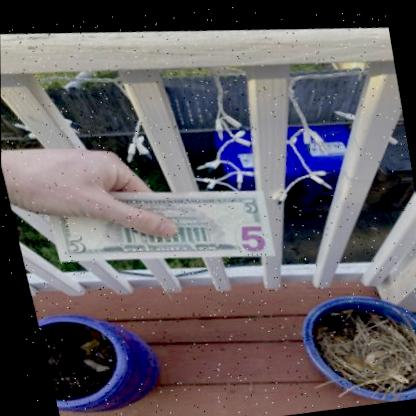dollar_back: (41, 159, 273, 283)
